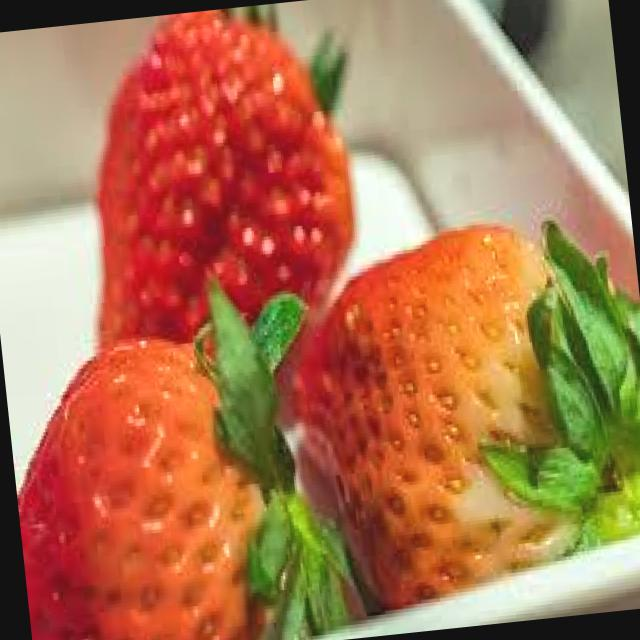strawberry: (267, 203, 640, 602), (49, 0, 381, 347), (7, 326, 338, 640)
